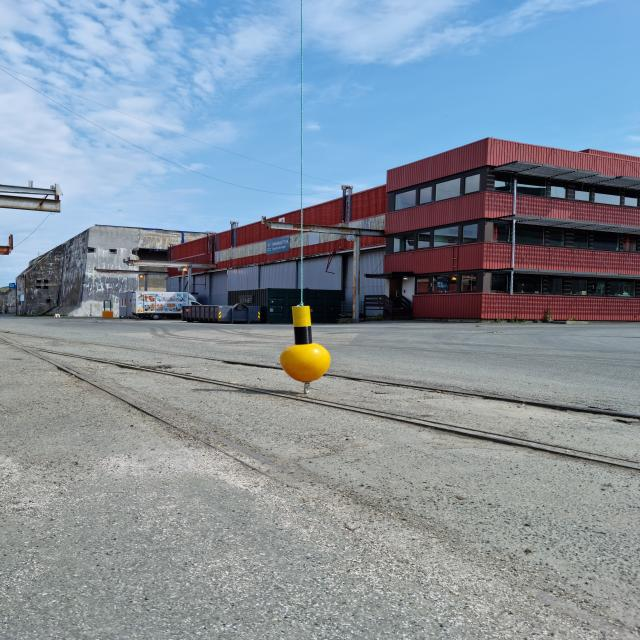west: (280, 305, 332, 382)
